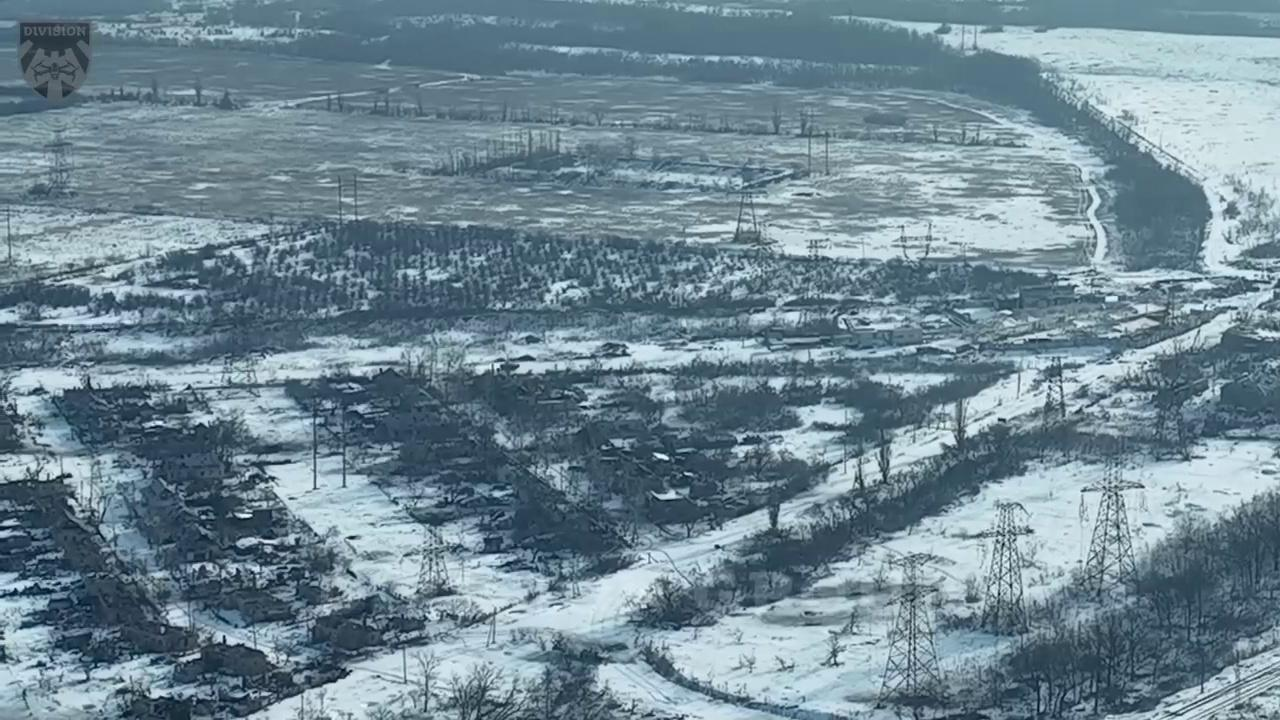vehicle: (500, 362, 519, 372)
